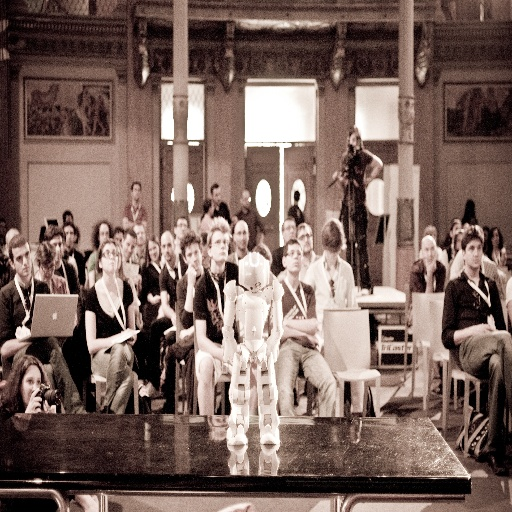hand: (24, 387, 41, 413), (42, 399, 57, 416), (477, 325, 491, 334), (127, 336, 137, 346), (310, 336, 319, 347)
